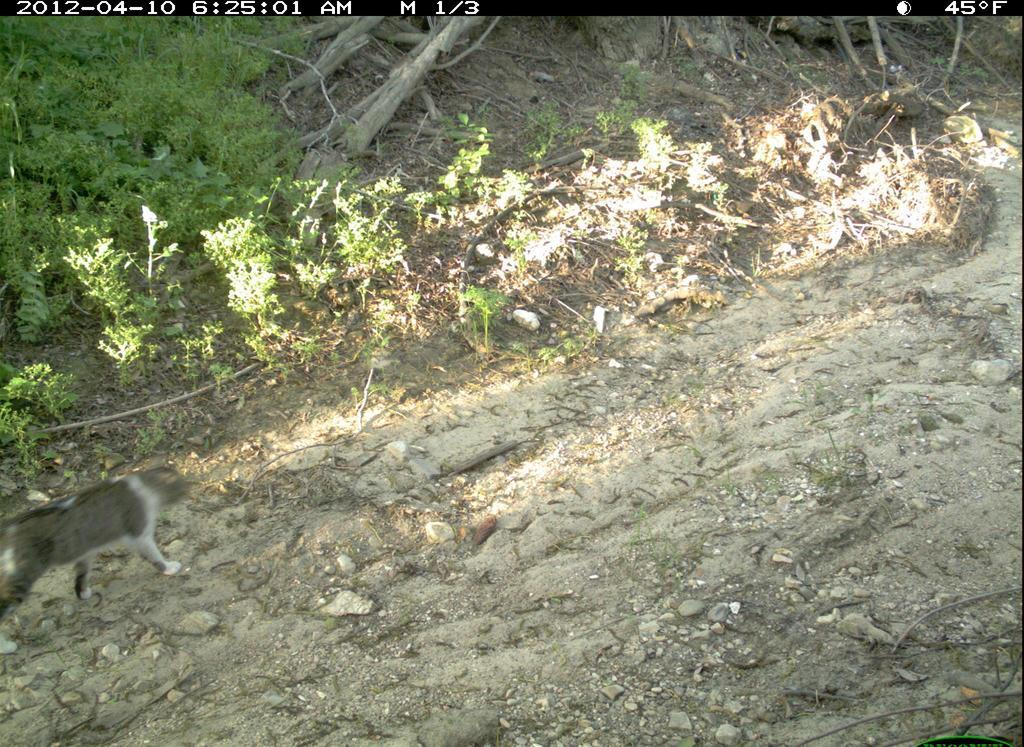cat: (1, 461, 194, 658)
